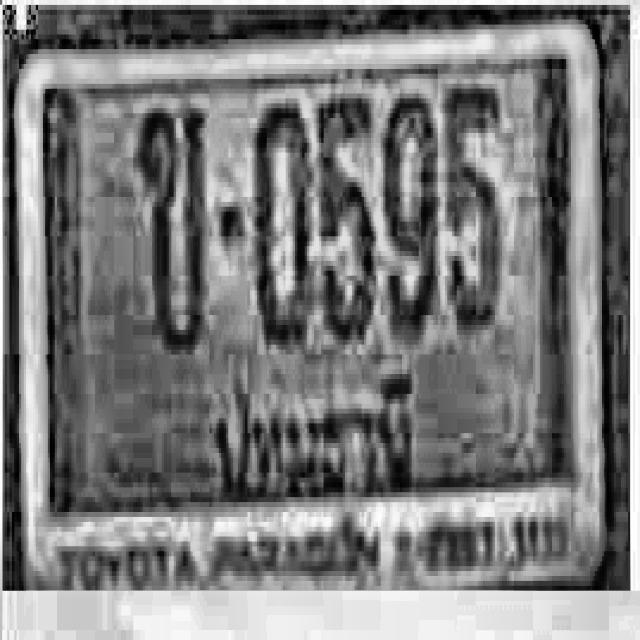license-plate: (0, 0, 609, 591)
